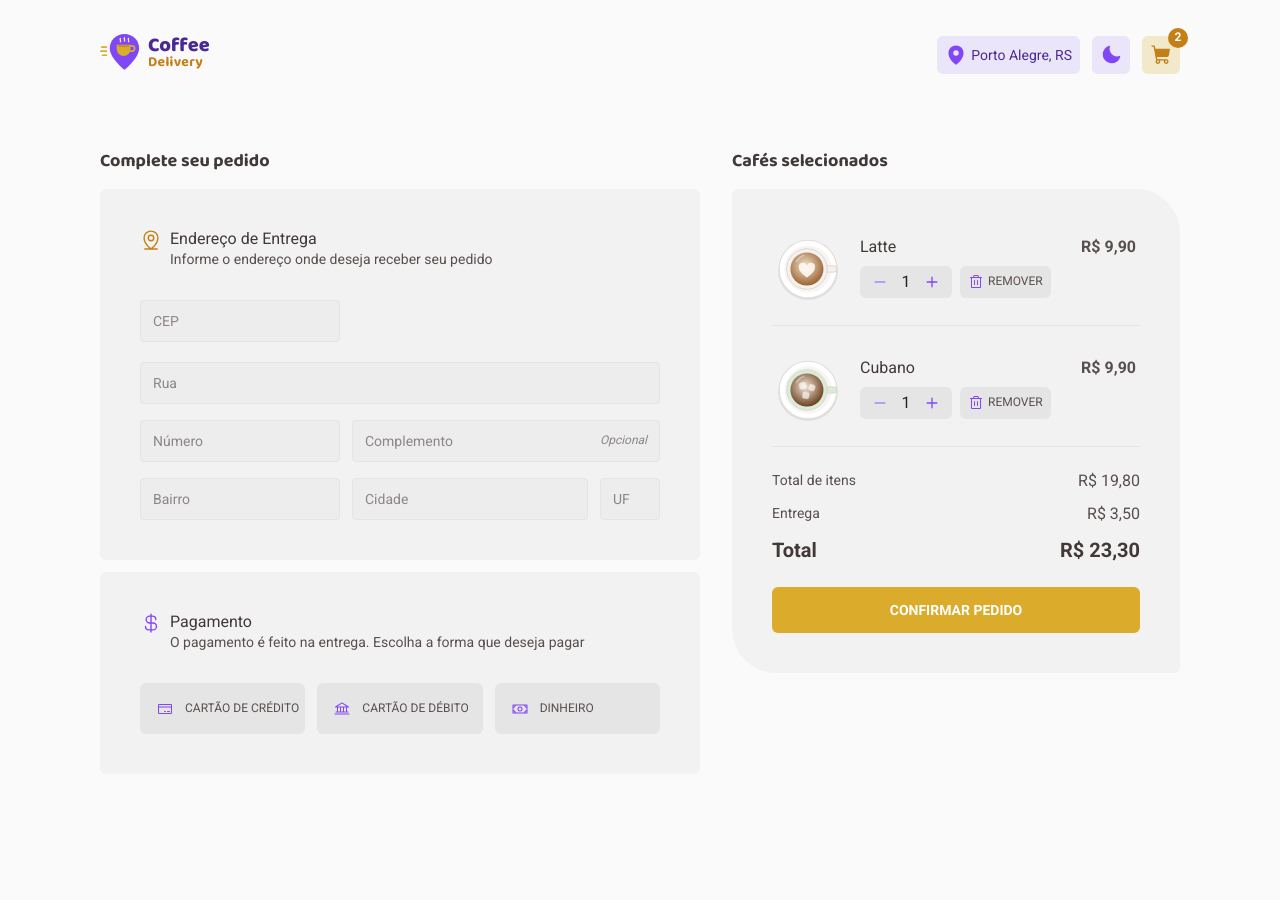
Test: Checkout › RF-05: incrementa, decrementa e remove itens atualizando totais e badge
Click the button named "aumentar quantidade" below "Latte": (932, 282) [920,270,944,294]
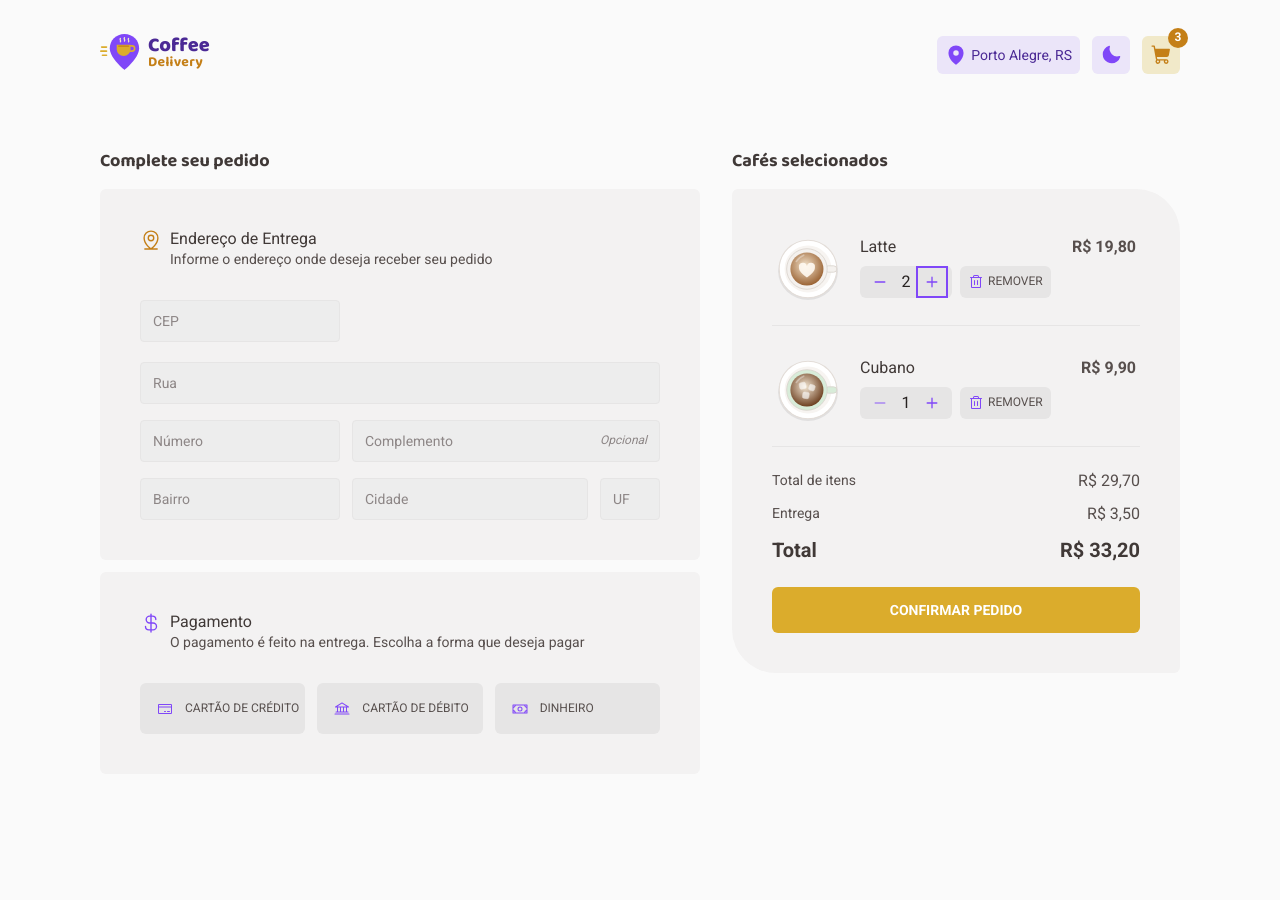
Expected: the text with test id "order-total" reads "R$ 33,20", [1060,538,1140,562]
Expected: the text with test id "cart-badge" reads "3", [1174,30,1181,44]
Click the button with aria-label "remover latte": (1005, 282) [960,266,1051,298]
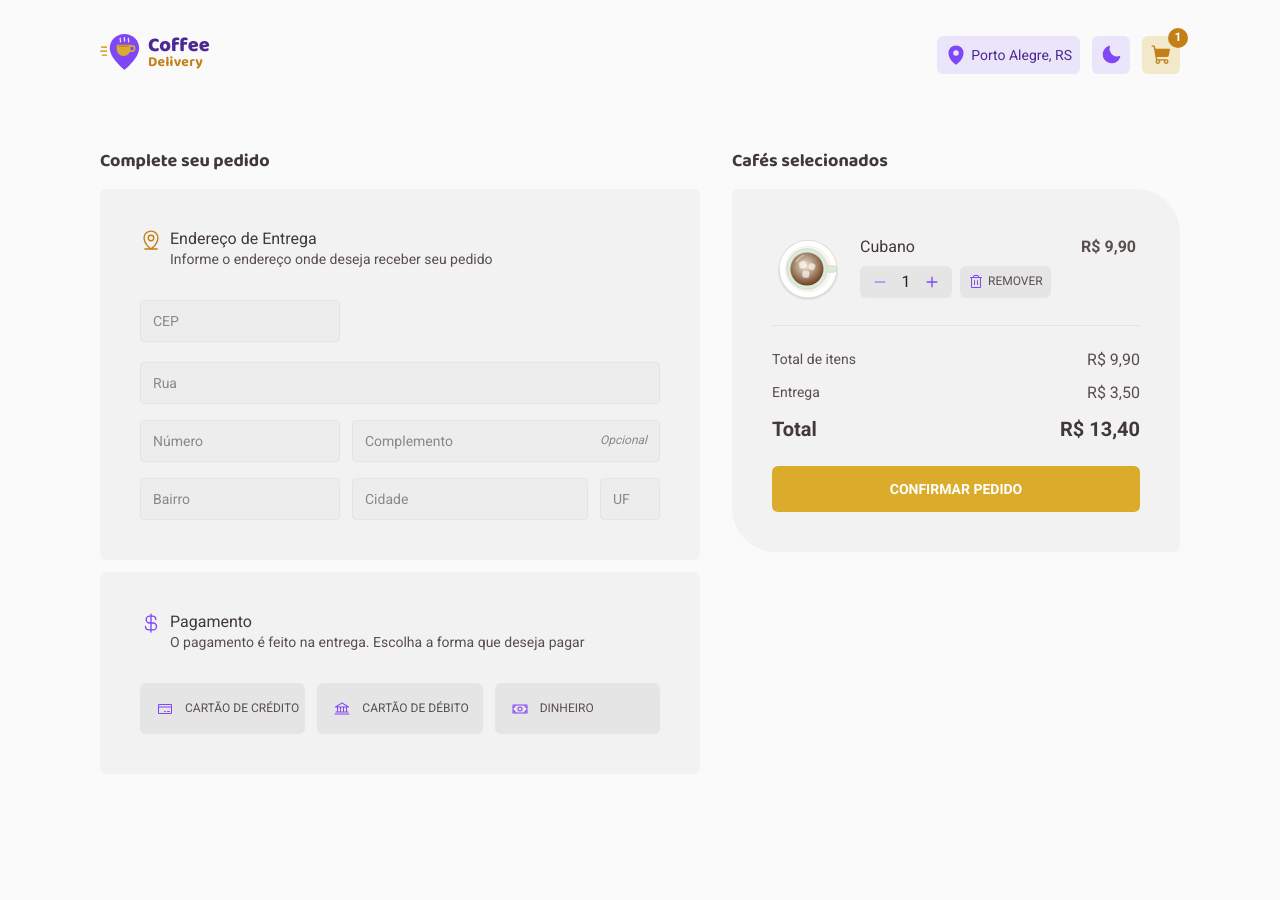
Expected: the text "Latte" is gone
Expected: the text with test id "order-total" reads "R$ 13,40", [1060,417,1140,441]
